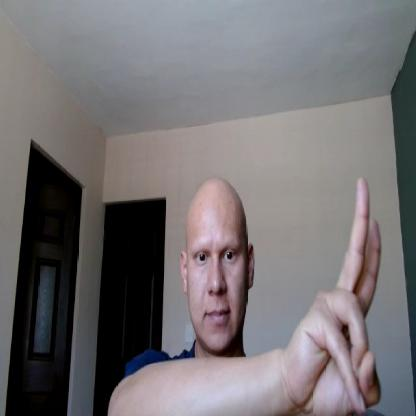V: (285, 175, 385, 415)
